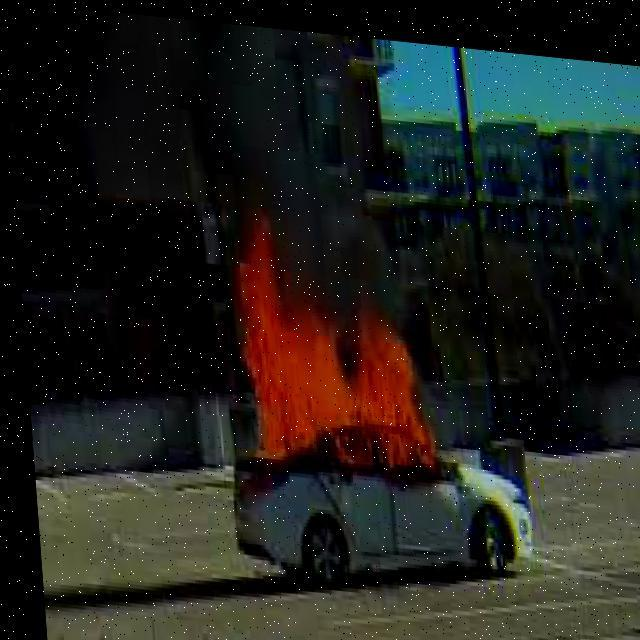Fire: (222, 200, 439, 472)
